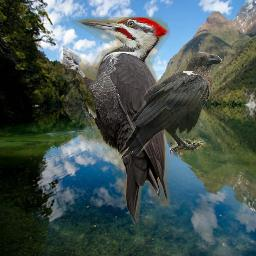Crow: (117, 52, 222, 159)
Woodpecker: (63, 17, 170, 226)
